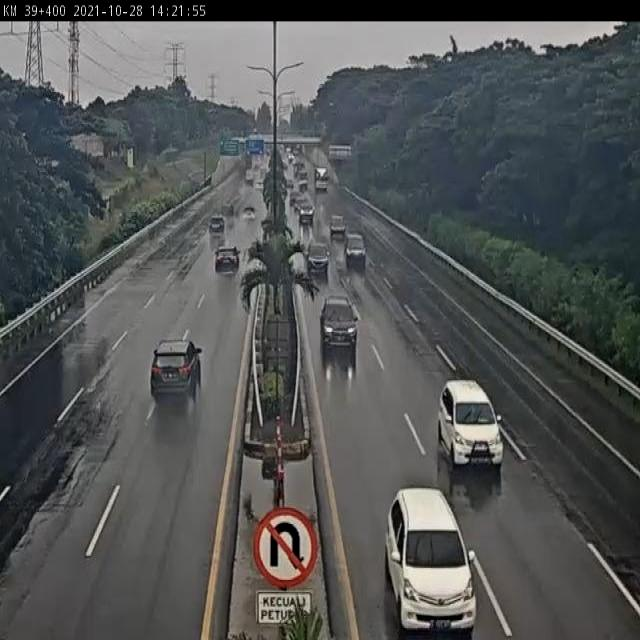Car: (382, 483, 482, 640), (438, 374, 511, 473), (147, 340, 205, 404), (320, 292, 357, 360), (342, 230, 370, 268), (214, 244, 245, 274), (310, 242, 330, 278), (328, 214, 347, 242), (206, 217, 231, 235), (298, 202, 314, 227), (240, 209, 258, 224)
